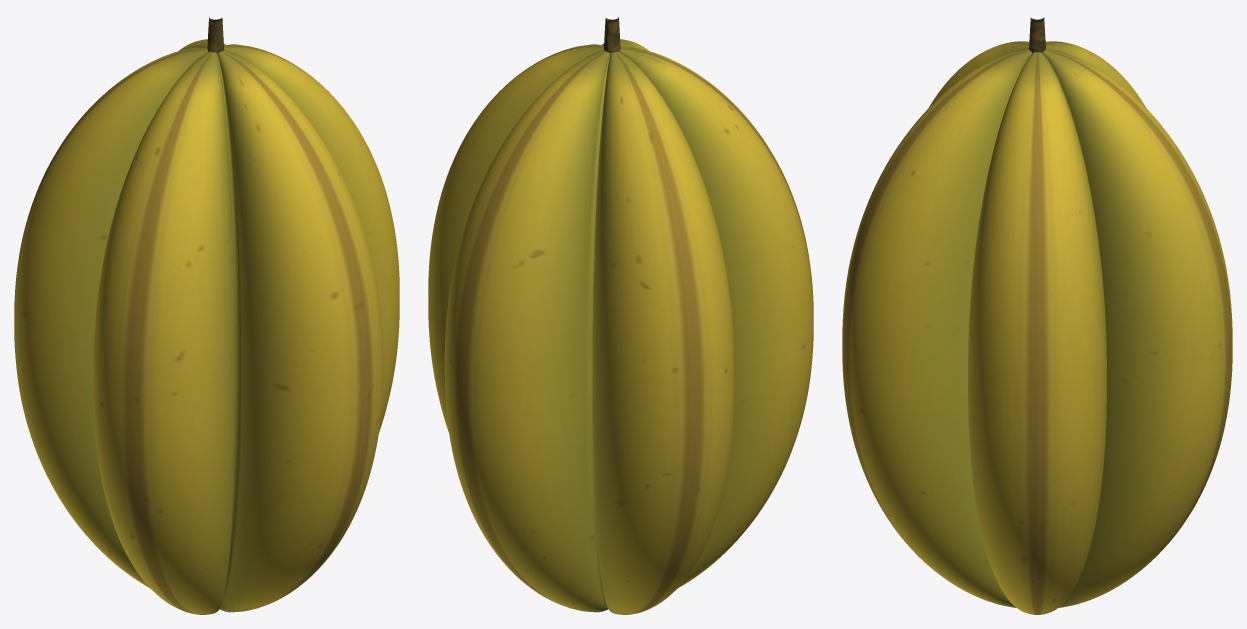
File: carambole.glb
3 views of the same model, side by side, from view 1: azimuth 30°, elevation 25°; view 2: azimuth 150°, elevation 25°; view 3: azimuth 270°, elevation 25° (orthographic).
Parts seen in each view (by area): view 1: moitie_A_peau, entier_peau, moitie_B_peau, entier_extra0; view 2: moitie_B_peau, entier_peau, moitie_A_peau, entier_extra0; view 3: entier_peau, moitie_A_peau, moitie_B_peau, entier_extra0.
Part boxes in pixels (x1=…): moitie_A_peau: x1=93, y1=46, x2=399, y2=614; entier_peau: x1=14, y1=41, x2=399, y2=609; moitie_B_peau: x1=14, y1=39, x2=289, y2=587; entier_extra0: x1=207, y1=17, x2=224, y2=54; moitie_B_peau: x1=428, y1=46, x2=734, y2=614; entier_peau: x1=428, y1=40, x2=813, y2=609; moitie_A_peau: x1=538, y1=39, x2=813, y2=587; entier_extra0: x1=603, y1=17, x2=620, y2=54; entier_peau: x1=842, y1=41, x2=1232, y2=614; moitie_A_peau: x1=842, y1=41, x2=1037, y2=614; moitie_B_peau: x1=1037, y1=41, x2=1232, y2=614; entier_extra0: x1=1029, y1=17, x2=1045, y2=52.
Bounding box in the file's own units: 0.0674 × 0.116 × 0.0696.
Materials: 3 (3 with a texture image).
